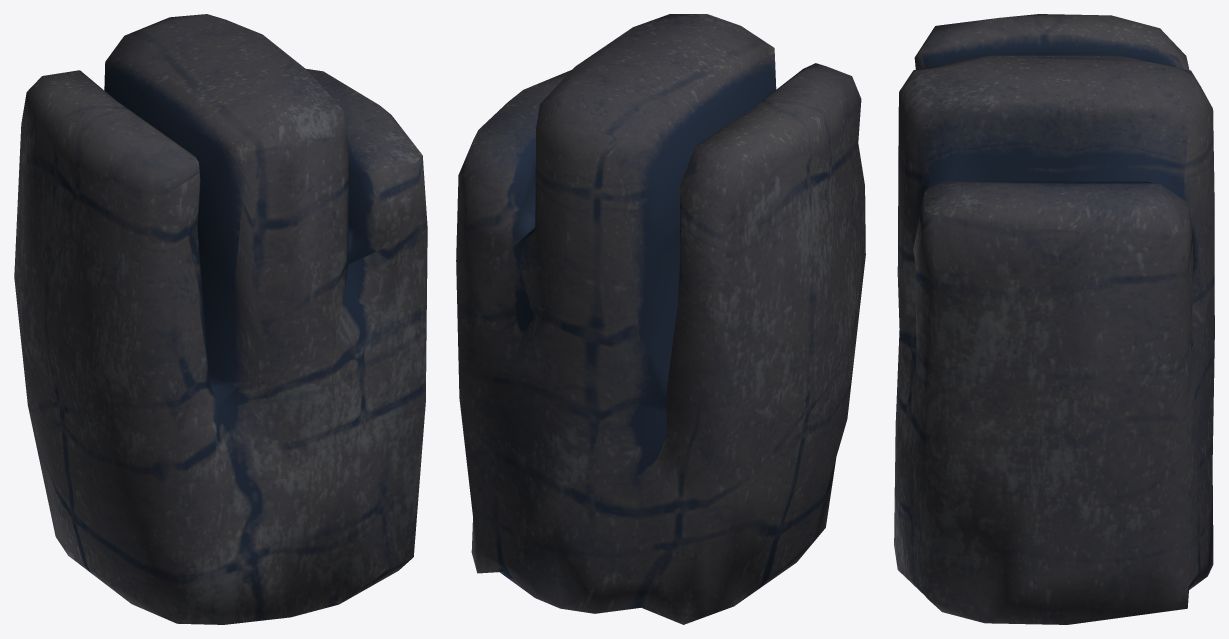
The model's file is obstacle_moyen2.obj.
The picture shows the model from 3 angles, left to right: view 1: azimuth 30°, elevation 25°; view 2: azimuth 150°, elevation 25°; view 3: azimuth 270°, elevation 25°; orthographic projection.
Visible parts, largest first — view 1: obstacle_moyen2.001; view 2: obstacle_moyen2.001; view 3: obstacle_moyen2.001.
Part boxes in pixels (x1,y1,x2,y2): obstacle_moyen2.001: (14, 14, 427, 624); obstacle_moyen2.001: (456, 14, 865, 624); obstacle_moyen2.001: (894, 14, 1214, 624).
Size of the model in its own units: 1308 by 1865 by 1108.
Materials: 1 (1 with a texture image).
